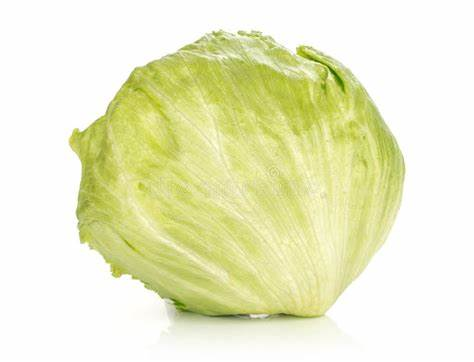Lettuce: (55, 19, 411, 334)
